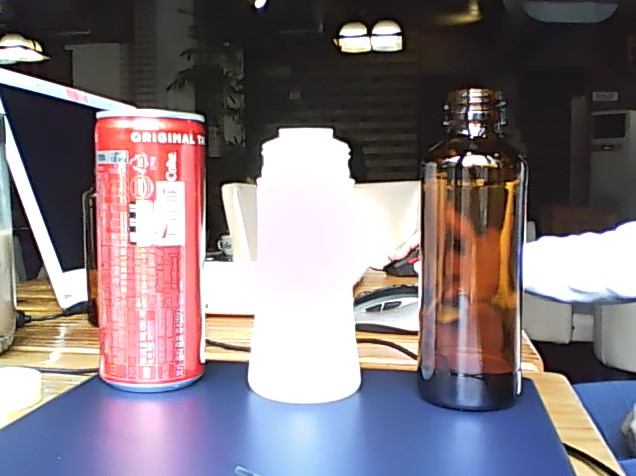Can: (87, 105, 209, 393)
Glass: (413, 85, 529, 412)
Plastic: (243, 124, 368, 406)
